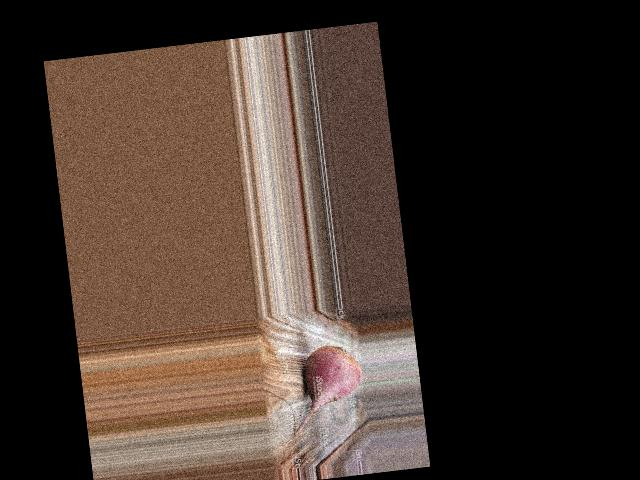beet: (284, 342, 368, 436)
